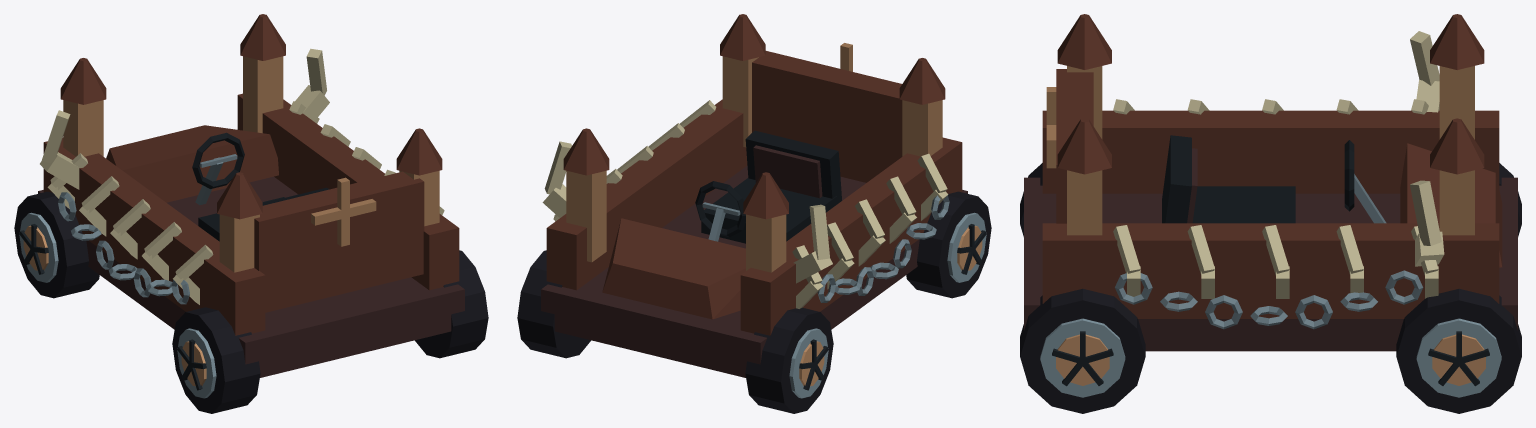
Rendered from kart.glb.
3 views of the same model, side by side, from view 1: azimuth 30°, elevation 25°; view 2: azimuth 150°, elevation 25°; view 3: azimuth 270°, elevation 25° (orthographic). The views are drawn at different scales.
Parts seen in each view (by area): view 1: identity-reliquary-reliquary-arched-stone-chest, wheel-rear-left, wheel-front-left, identity-reliquary-motif-ribs, wheel-rear-right, identity-reliquary-motif-horns, identity-reliquary-motif-chains, identity-reliquary-driver-cockpit; view 2: identity-reliquary-reliquary-arched-stone-chest, identity-reliquary-driver-cockpit, wheel-front-left, wheel-rear-left, identity-reliquary-motif-ribs, wheel-front-right, identity-reliquary-motif-horns, identity-reliquary-motif-chains; view 3: identity-reliquary-reliquary-arched-stone-chest, wheel-rear-right, wheel-front-right, identity-reliquary-driver-cockpit, identity-reliquary-motif-ribs, identity-reliquary-motif-chains, identity-reliquary-motif-horns.
Boxes of the visible parts, x1,y1,x2,y2 form: identity-reliquary-reliquary-arched-stone-chest: (38,14,464,377); wheel-rear-left: (172,307,260,413); wheel-front-left: (14,191,99,298); identity-reliquary-motif-ribs: (47,101,444,304); wheel-rear-right: (415,250,488,358); identity-reliquary-motif-horns: (40,48,329,189); identity-reliquary-motif-chains: (58,192,189,304); identity-reliquary-driver-cockpit: (192,132,329,241); identity-reliquary-reliquary-arched-stone-chest: (541,14,967,377); identity-reliquary-driver-cockpit: (695,130,841,243); wheel-front-left: (745,307,833,413); wheel-rear-left: (906,191,991,298); identity-reliquary-motif-ribs: (553,100,948,308); wheel-front-right: (517,250,590,358); identity-reliquary-motif-horns: (542,141,832,283); identity-reliquary-motif-chains: (817,195,949,302); identity-reliquary-reliquary-arched-stone-chest: (1024,14,1517,351); wheel-rear-right: (1020,288,1145,413); wheel-front-right: (1396,288,1521,413); identity-reliquary-driver-cockpit: (1162,135,1386,223); identity-reliquary-motif-ribs: (1113,99,1438,298); identity-reliquary-motif-chains: (1115,270,1423,329); identity-reliquary-motif-horns: (1410,31,1444,266).
Bounding box in the file's own units: 2 × 1.51 × 2.56.
